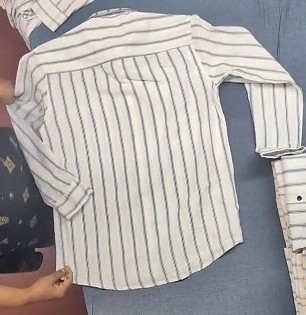SHIRT: (3, 17, 306, 295)
